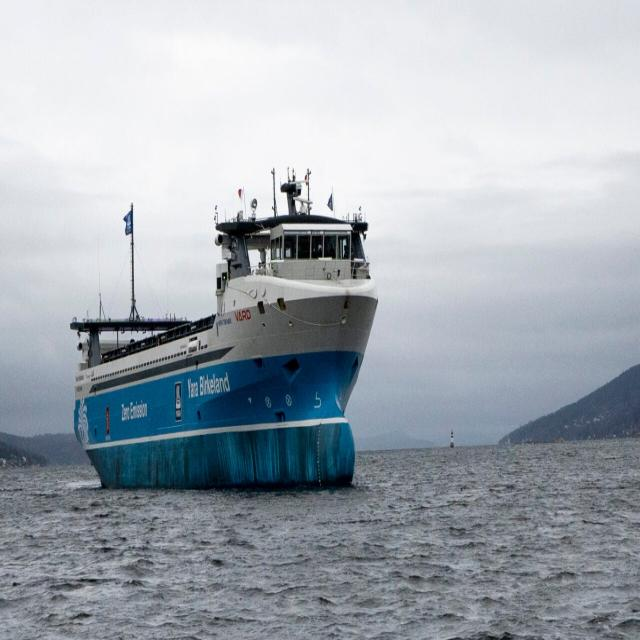boat: (56, 164, 388, 521)
